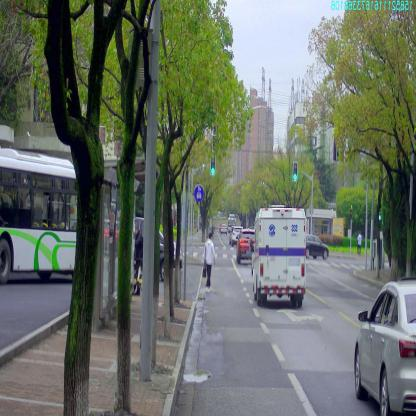traffic-light: (293, 162, 298, 181), (211, 156, 215, 175)
